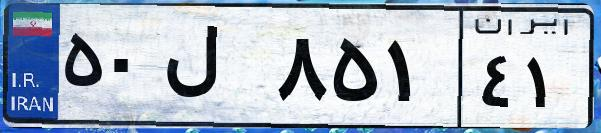0: (110, 28, 158, 98)
1: (385, 28, 445, 110), (525, 38, 570, 115)
4: (475, 38, 525, 113)
5: (330, 28, 385, 110), (57, 26, 110, 100)
8: (270, 28, 330, 110)
ل: (158, 20, 270, 120)
